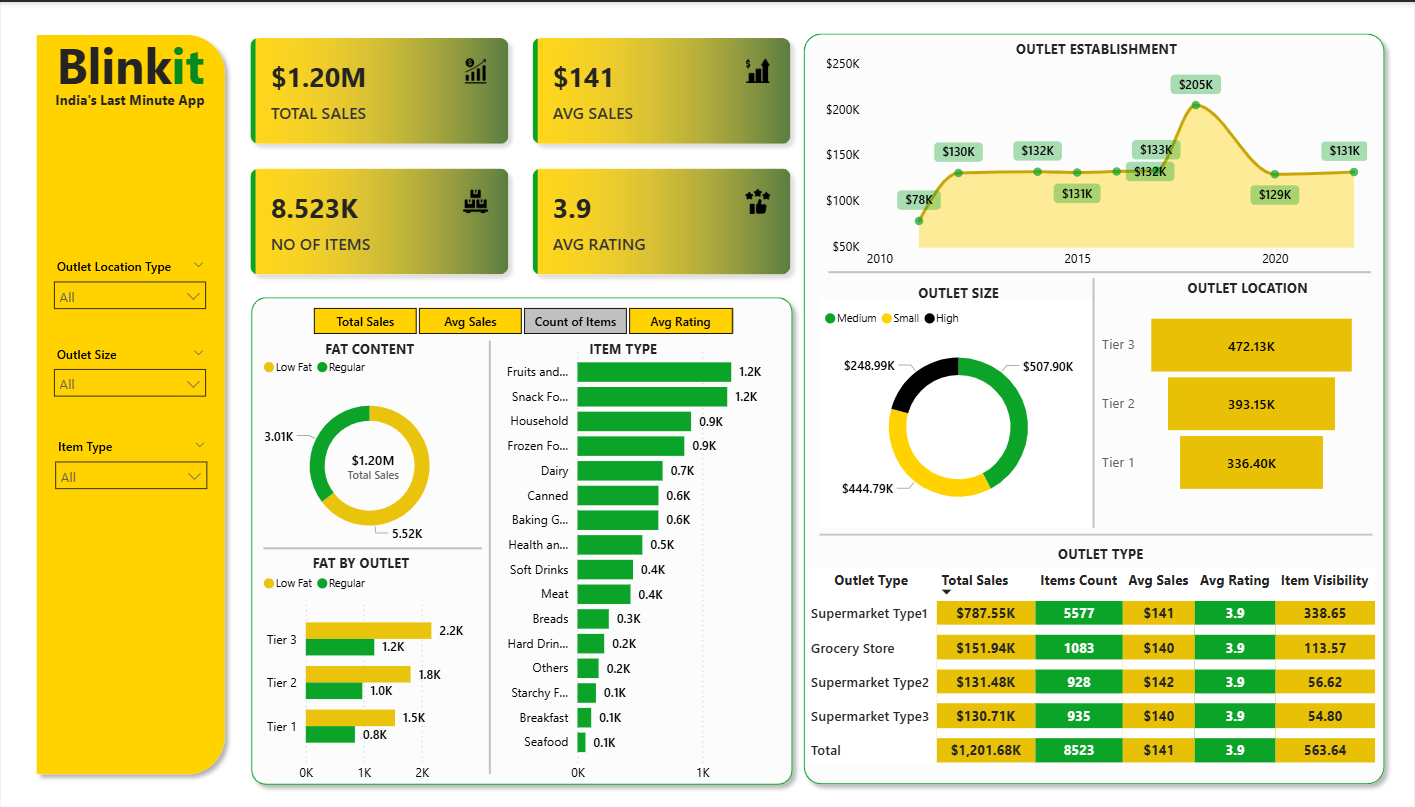

This screenshot's page, from the dashboard's own definition file:
{"tool":"powerbi","page":{"name":"Main Page","canvas":[1399,800],"ordinal":0},"visuals":[{"type":"shape","box":[25.9,23.2,204.5,749.8],"z":0},{"type":"textbox","box":[42.3,24.5,171.8,84.5],"z":1000},{"type":"textbox","box":[43.6,83.2,169.1,31.4],"z":2000},{"type":"cardVisual","fields":{"Data":["BlinkIT Grocery Data.Total Sales","BlinkIT Grocery Data.Avg Sales","BlinkIT Grocery Data.Count of Items","BlinkIT Grocery Data.Avg Rating"]},"box":[230.4,19.1,569.9,269.9],"z":3000},{"type":"shape","box":[238.6,283.6,553.5,500.3],"z":4000},{"type":"donutChart","title":"FAT CONTENT","fields":{"Y":["BlinkIT Grocery Data.Total Sales"],"Category":["BlinkIT Grocery Data.Item Fat Content"]},"box":[254.4,343,220.3,205.1],"z":5000},{"type":"slicer","fields":{"Values":["Metrics.Metrics"]},"box":[283.1,295,464.4,40],"z":6000},{"type":"cardVisual","fields":{"Data":["BlinkIT Grocery Data.Total Sales"]},"box":[320.3,426.6,96.2,57],"z":7000},{"type":"clusteredBarChart","title":"FAT BY OUTLET","fields":{"Y":["BlinkIT Grocery Data.Total Sales"],"Category":["BlinkIT Grocery Data.Outlet Location Type"],"Series":["BlinkIT Grocery Data.Item Fat Content"]},"box":[254.4,557,221.5,224.1],"z":8000},{"type":"shape","box":[260,533.8,216.2,12.5],"z":9000},{"type":"shape","box":[476.2,335,15,428.8],"z":10000},{"type":"barChart","title":"ITEM TYPE","fields":{"Y":["BlinkIT Grocery Data.Total Sales"],"Category":["BlinkIT Grocery Data.Item Type"]},"box":[483.8,333.8,295,447.5],"z":11000},{"type":"textbox","box":[568.5,328.5,93.8,28.5],"z":12000},{"type":"textbox","box":[303.8,329.1,121.5,27.8],"z":13000},{"type":"textbox","box":[297.5,540.5,116.5,27.8],"z":14000},{"type":"shape","box":[785,22.5,592.5,760.8],"z":15000},{"type":"lineChart","fields":{"Category":["BlinkIT Grocery Data.Outlet Establishment Year"],"Y":["BlinkIT Grocery Data.Total Sales"]},"box":[811.4,46.8,545.6,225.3],"z":16000},{"type":"textbox","box":[1000,31.6,169.6,29.1],"z":17000},{"type":"donutChart","fields":{"Category":["BlinkIT Grocery Data.Outlet Size"],"Y":["BlinkIT Grocery Data.Total Sales"]},"box":[810.1,294.9,274.7,225.3],"z":18000},{"type":"textbox","box":[888.6,273.4,119,29.1],"z":19000},{"type":"shape","box":[1077.2,273.4,7.6,246.8],"z":20000},{"type":"funnel","fields":{"Y":["Sum(BlinkIT Grocery Data.Sales)"],"Category":["BlinkIT Grocery Data.Outlet Location Type"]},"box":[1084.8,259.5,262,274.7],"z":21000},{"type":"textbox","box":[1157,268.4,154.4,29.1],"z":22000},{"type":"shape","box":[810.1,519,546.8,15.2],"z":23000},{"type":"shape","box":[819,260.8,536.7,12.7],"z":24000},{"type":"pivotTable","fields":{"Rows":["BlinkIT Grocery Data.Outlet Type"],"Values":["BlinkIT Grocery Data.Total Sales","BlinkIT Grocery Data.Count of Items","BlinkIT Grocery Data.Avg Sales","BlinkIT Grocery Data.Avg Rating","Sum(BlinkIT Grocery Data.Item Visibility)"]},"box":[791.1,554.4,574.7,230.4],"z":25000},{"type":"textbox","box":[1019,531.6,138,29.1],"z":26000},{"type":"slicer","fields":{"Values":["BlinkIT Grocery Data.Outlet Location Type"]},"box":[41.8,248.1,170.9,81],"z":27000},{"type":"slicer","fields":{"Values":["BlinkIT Grocery Data.Item Type"]},"box":[43,426.6,170.9,81],"z":28000},{"type":"slicer","fields":{"Values":["BlinkIT Grocery Data.Outlet Size"]},"box":[41.8,335.4,170.9,81],"z":29000}]}

Visuals, with their boxes in screenshot pixels (x1, y1, x2, y2), scaled from the page's 1399x800 canvas onto the 1415x807 screenshot:
shape: 26/23/233/780
textbox: 43/25/217/110
textbox: 44/84/215/116
cardVisual - BlinkIT Grocery Data.Total Sales x BlinkIT Grocery Data.Avg Sales: 233/19/809/292
shape: 241/286/801/791
"FAT CONTENT" donutChart: 257/346/480/553
slicer - Metrics.Metrics: 286/298/756/338
cardVisual - BlinkIT Grocery Data.Total Sales: 324/430/421/488
"FAT BY OUTLET" clusteredBarChart: 257/562/481/788
shape: 263/538/482/551
shape: 482/338/497/770
"ITEM TYPE" barChart: 489/337/788/788
textbox: 575/331/670/360
textbox: 307/332/430/360
textbox: 301/545/419/573
shape: 794/23/1393/790
lineChart - BlinkIT Grocery Data.Outlet Establishment Year x BlinkIT Grocery Data.Total Sales: 821/47/1373/274
textbox: 1011/32/1183/61
donutChart - BlinkIT Grocery Data.Outlet Size x BlinkIT Grocery Data.Total Sales: 819/297/1097/525
textbox: 899/276/1019/305
shape: 1090/276/1097/525
funnel - Sum(BlinkIT Grocery Data.Sales) x BlinkIT Grocery Data.Outlet Location Type: 1097/262/1362/539
textbox: 1170/271/1326/300
shape: 819/524/1372/539
shape: 828/263/1371/276
pivotTable - BlinkIT Grocery Data.Outlet Type x BlinkIT Grocery Data.Total Sales: 800/559/1381/792
textbox: 1031/536/1170/566
slicer - BlinkIT Grocery Data.Outlet Location Type: 42/250/215/332
slicer - BlinkIT Grocery Data.Item Type: 43/430/216/512
slicer - BlinkIT Grocery Data.Outlet Size: 42/338/215/420
